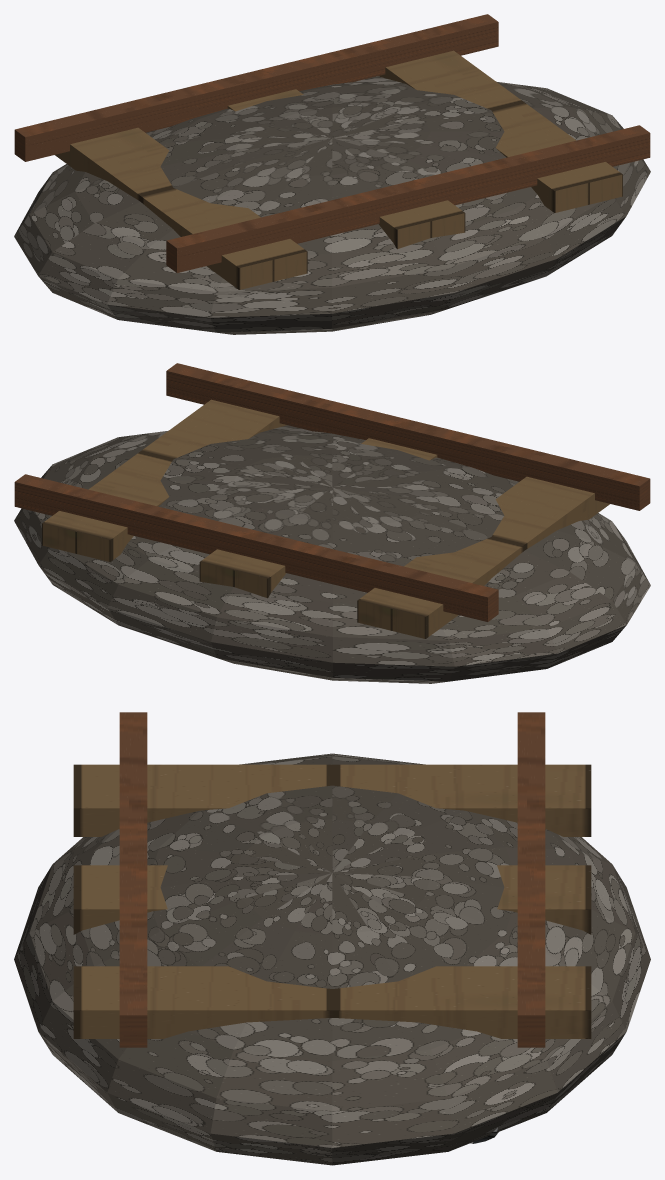
Rendered from duong-ray-da-dam.glb.
3 renders of one model, top to bottom at view 1: azimuth 30°, elevation 25°; view 2: azimuth 150°, elevation 25°; view 3: azimuth 270°, elevation 25°, orthographic. The views are drawn at different scales.
Parts seen in each view (by area): view 1: duong-ray-da-dam; view 2: duong-ray-da-dam; view 3: duong-ray-da-dam.
Part boxes in pixels (x1,y1,x2,y2): duong-ray-da-dam: (14,14,650,334); duong-ray-da-dam: (14,363,650,683); duong-ray-da-dam: (14,712,650,1165).
Bounding box in the file's own units: 2.24 × 0.505 × 1.6.
Materials: 4 (4 with a texture image).
